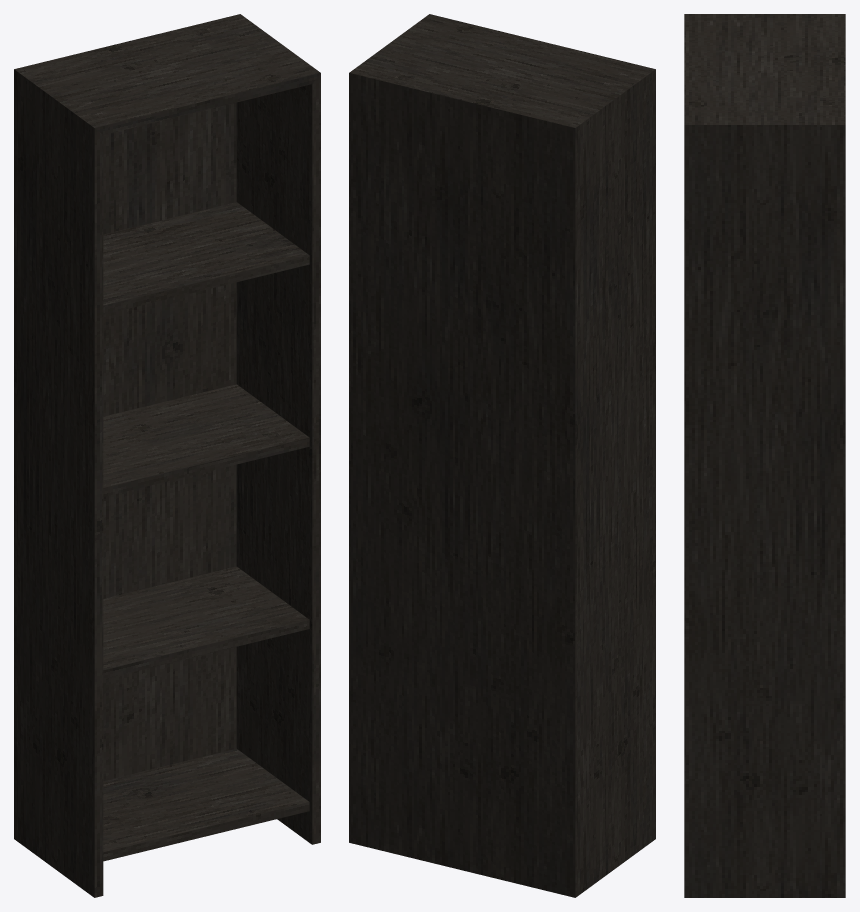
Rendered from shelf_mp_7.glb.
The picture shows the model from 3 angles, left to right: view 1: azimuth 30°, elevation 25°; view 2: azimuth 150°, elevation 25°; view 3: azimuth 270°, elevation 25°; orthographic projection.
Parts seen in each view (by area): view 1: shelf_mp_7; view 2: shelf_mp_7; view 3: shelf_mp_7.
Part boxes in pixels (x1,y1,x2,y2): shelf_mp_7: (14, 14, 320, 897); shelf_mp_7: (349, 14, 655, 897); shelf_mp_7: (684, 14, 845, 897).
Bounding box in the file's own units: 0.52 × 1.69 × 0.32.
Materials: 1 (1 with a texture image).
